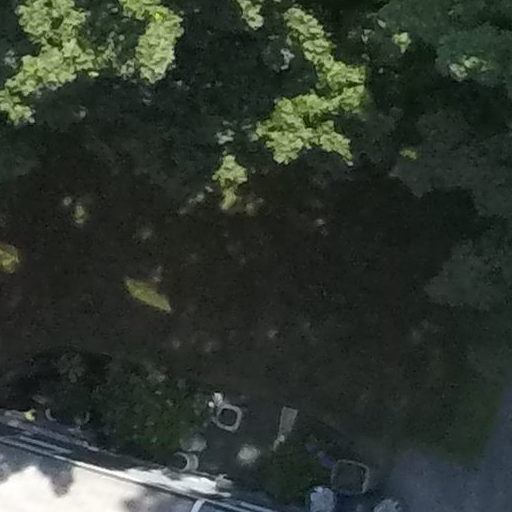container: (325, 449, 384, 499), (211, 400, 255, 444), (167, 447, 203, 472), (40, 403, 63, 422)
